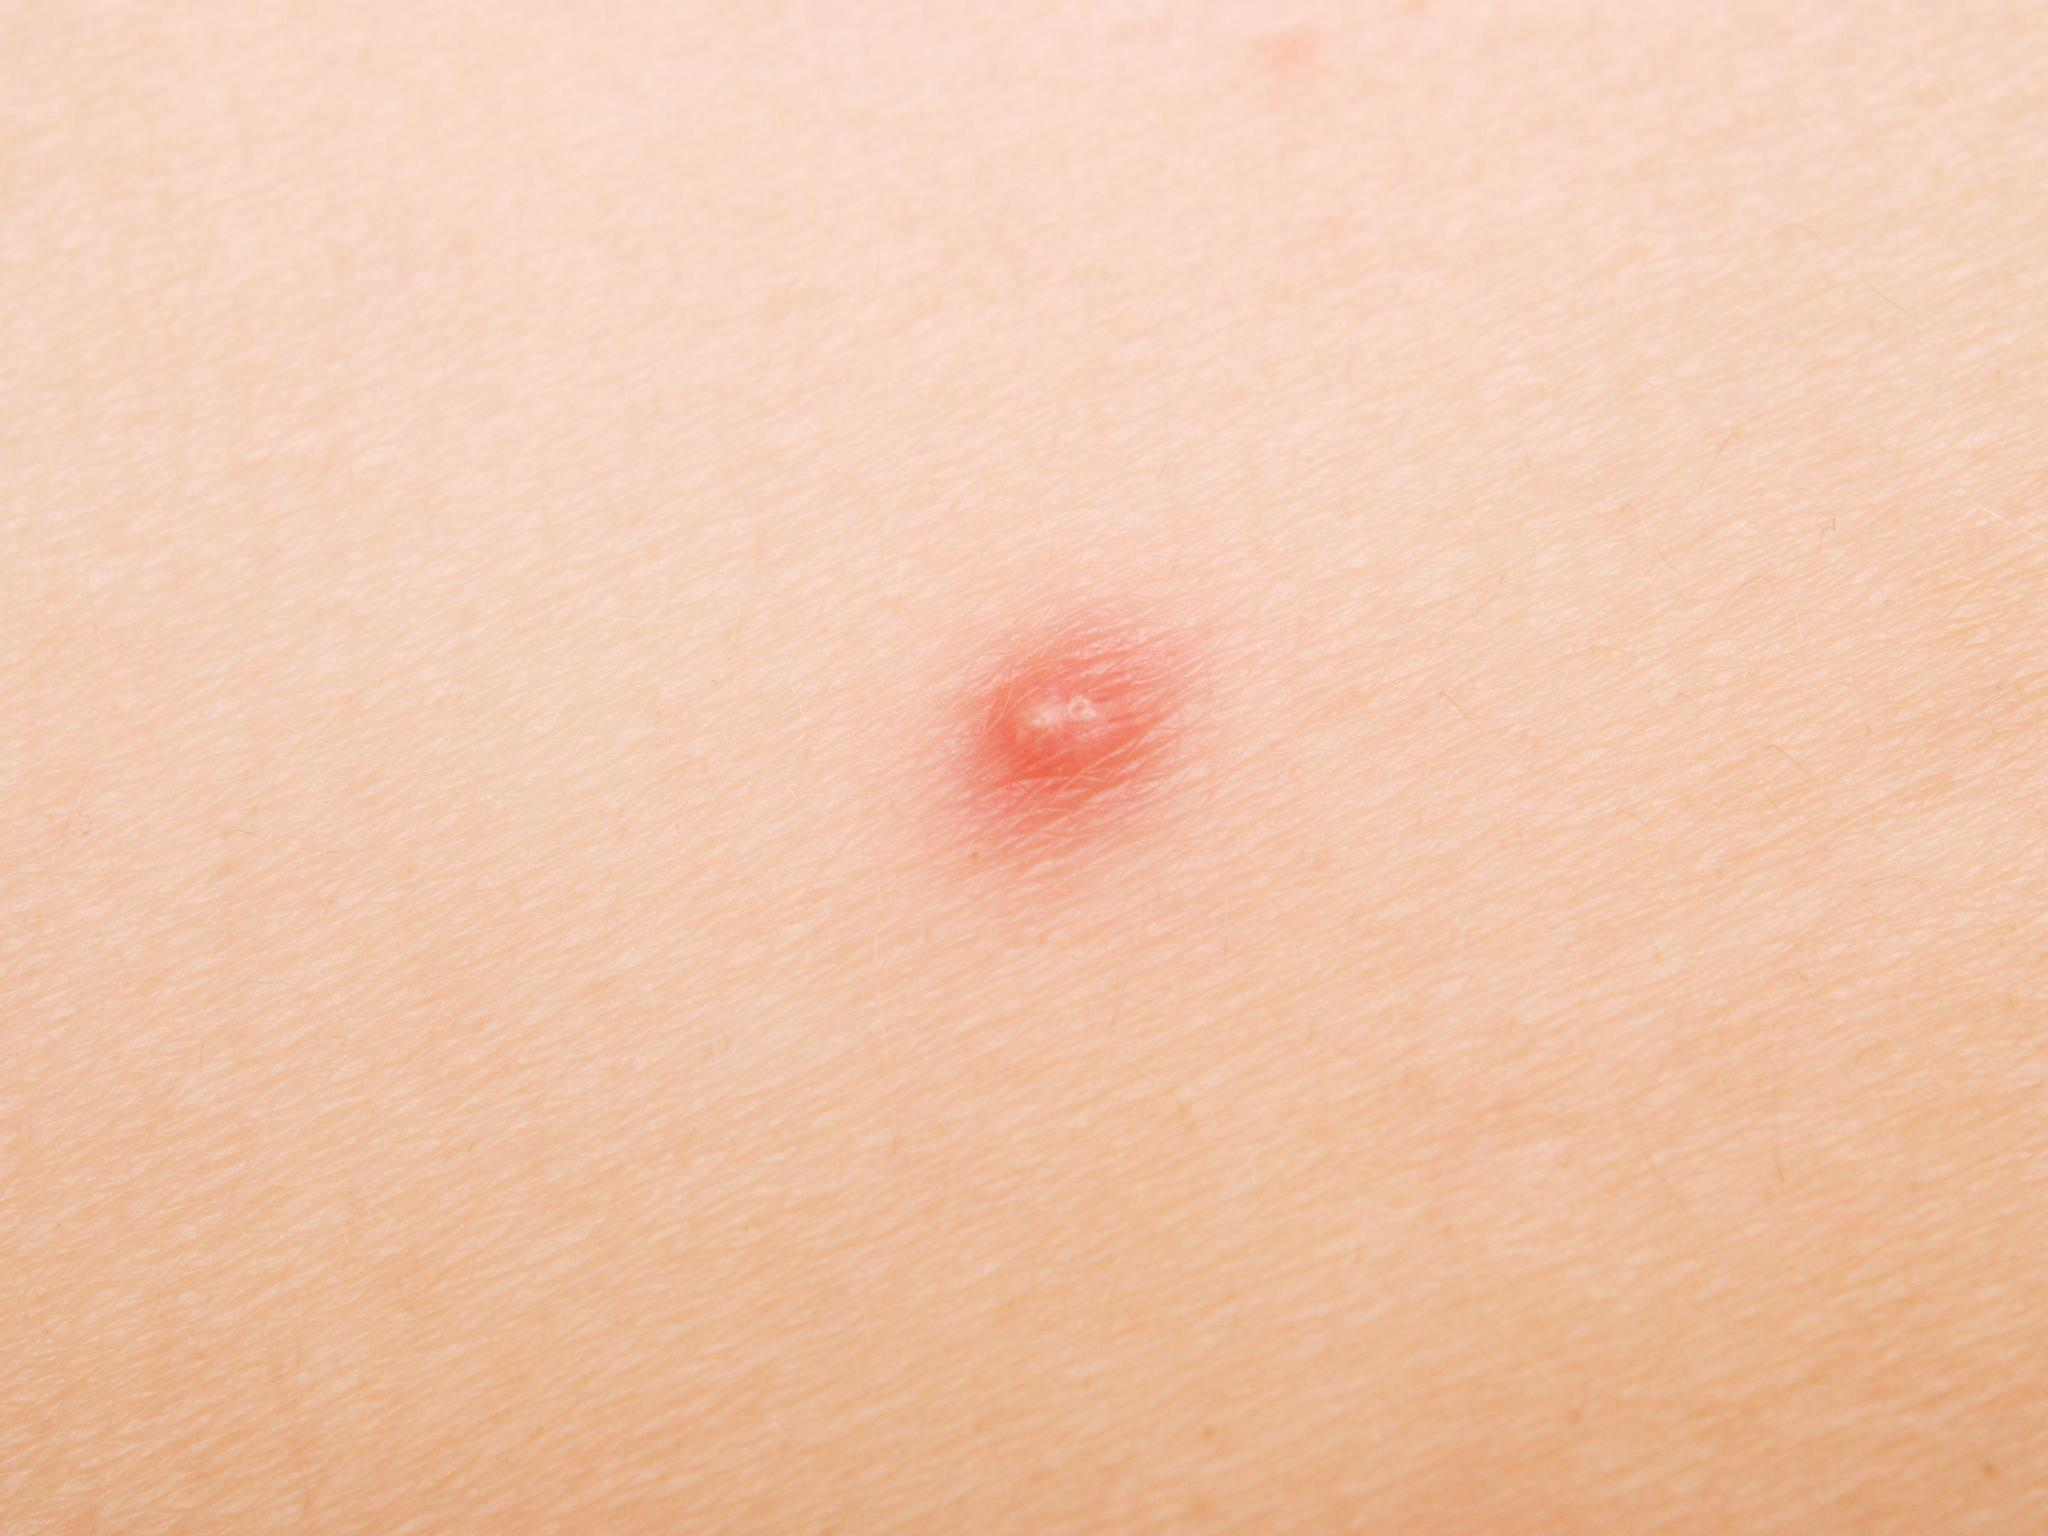papular: (910, 573, 1206, 879)
